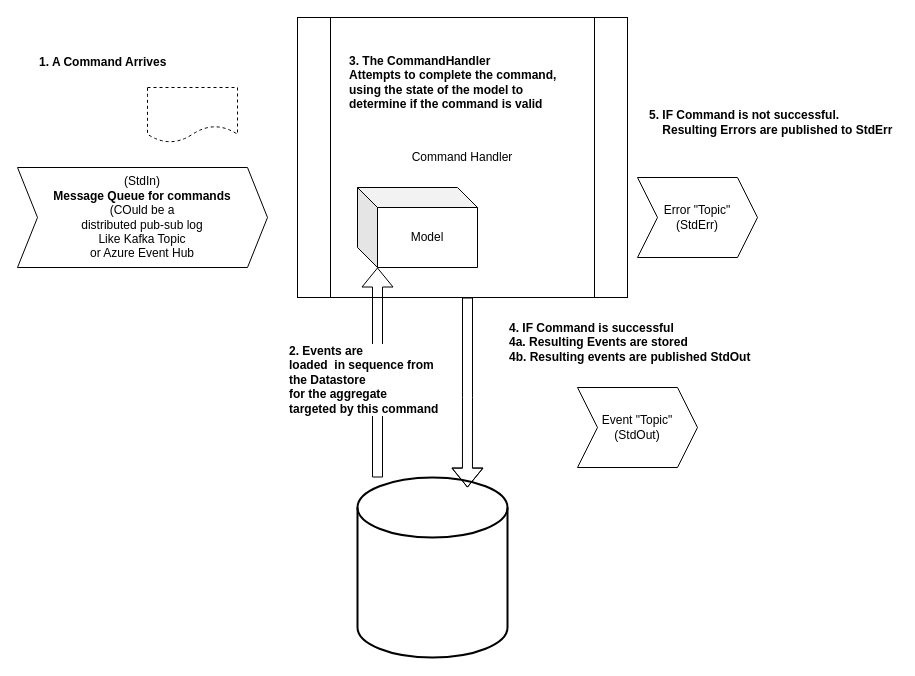
The diagram is 915 pixels wide and 676 high, and some of its shapes have lost their labels. The box of each missing label's shape, as (x1, y1, x2, y2) in pixels:
Command For: AggregateId: 1234: (146, 86, 238, 142)
Datastore Stores event streams for each Aggregate: (356, 476, 508, 658)
